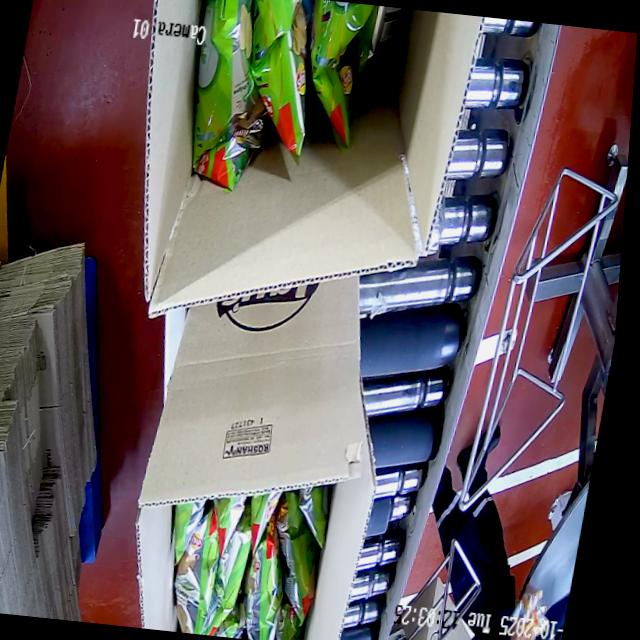YOGURT_HERB: (177, 0, 415, 179), (147, 475, 338, 640)
